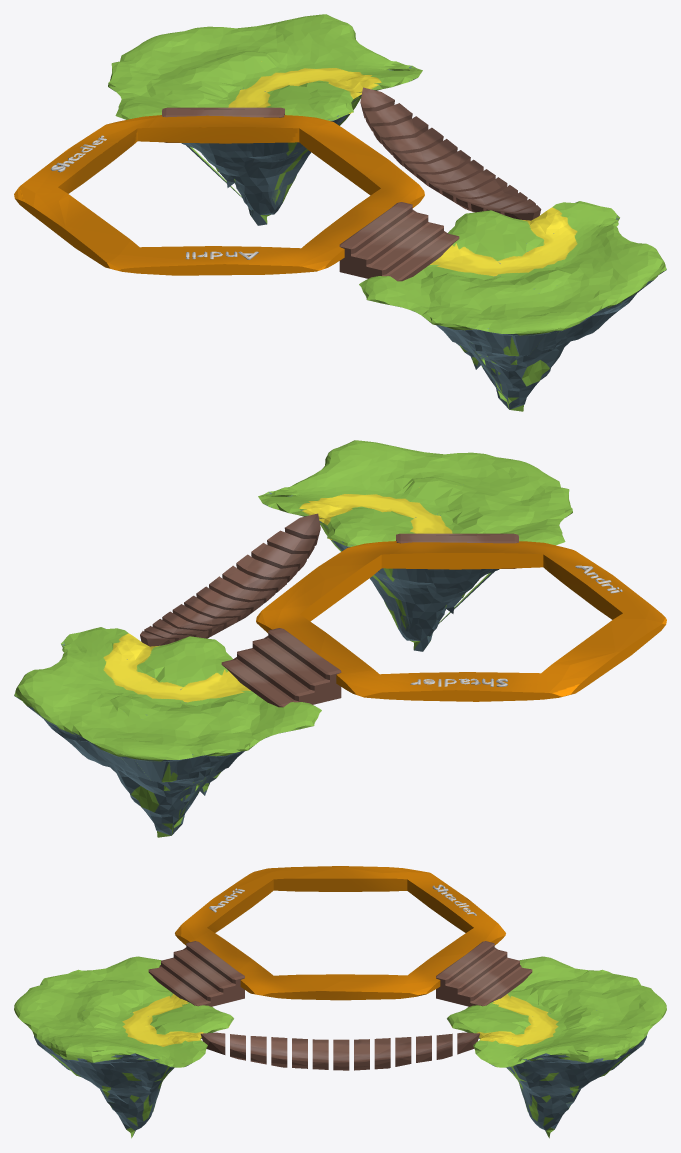
Rendered from plate.obj.
The picture shows the model from 3 angles, top to bottom: view 1: azimuth 30°, elevation 25°; view 2: azimuth 150°, elevation 25°; view 3: azimuth 270°, elevation 25°; orthographic projection. The views are drawn at different scales.
Visible parts, largest first — view 1: Island_Cube, Icosphere, bridge_Sphere.002, mesh-step_Cube.003; view 2: Island_Cube, Icosphere, bridge_Sphere.002, mesh-step_Cube.003; view 3: Island_Cube, Icosphere, mesh-step_Cube.003, bridge_Sphere.002.
Part boxes in pixels (<box>): Island_Cube: <box>108,14,666,411</box>; Icosphere: <box>14,115,424,275</box>; bridge_Sphere.002: <box>360,87,541,220</box>; mesh-step_Cube.003: <box>162,107,459,281</box>; Island_Cube: <box>14,440,572,837</box>; Icosphere: <box>256,541,666,701</box>; bridge_Sphere.002: <box>140,513,320,646</box>; mesh-step_Cube.003: <box>221,533,518,707</box>; Island_Cube: <box>14,956,666,1138</box>; Icosphere: <box>175,866,505,1000</box>; mesh-step_Cube.003: <box>148,941,532,1006</box>; bridge_Sphere.002: <box>200,1032,479,1070</box>.
Size of the model in its own units: 4.25 by 1.56 by 6.47.
5 materials, 4 textured.
